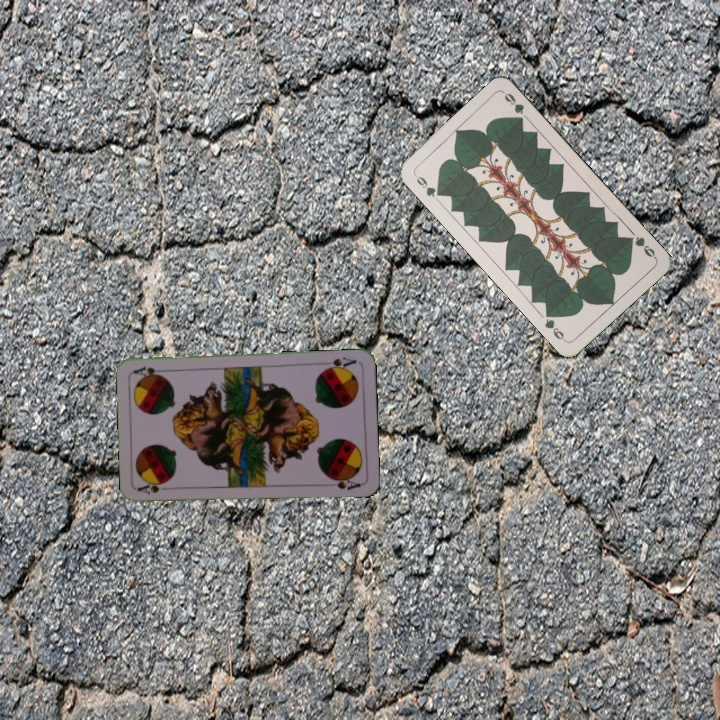G9: (410, 171, 445, 200), (623, 233, 658, 261)
SA: (319, 353, 359, 373), (134, 479, 168, 497)
